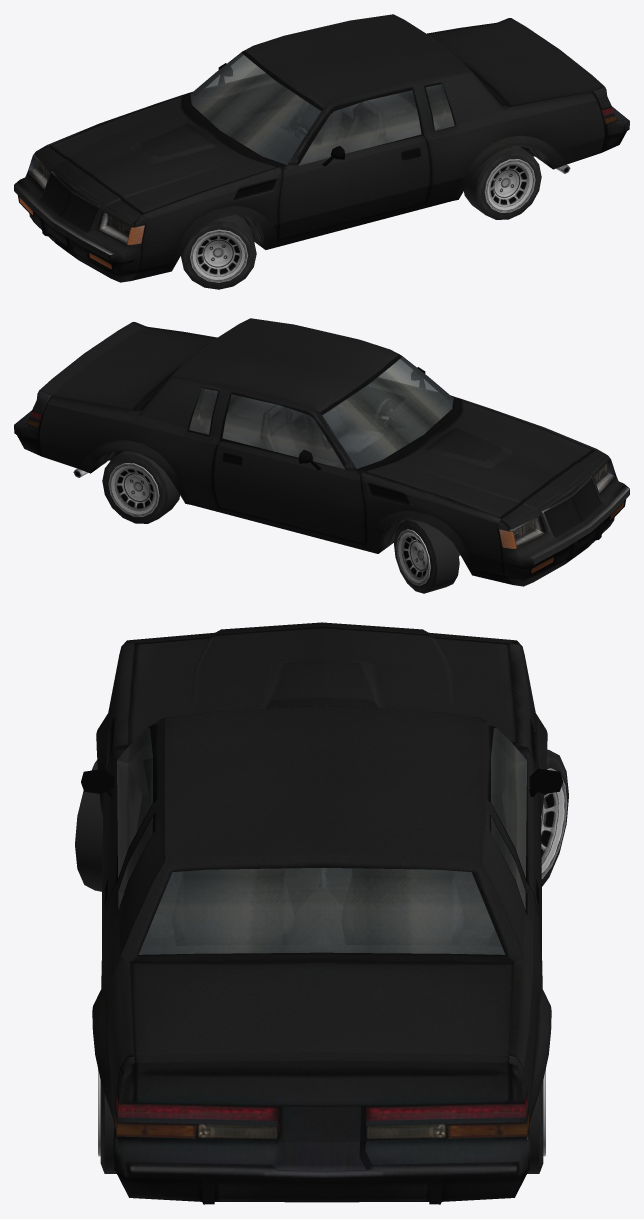
File: slayer_exp_87_-_low_poly_model.glb
3 renders of one model, top to bottom at view 1: azimuth 30°, elevation 25°; view 2: azimuth 150°, elevation 25°; view 3: azimuth 270°, elevation 25°, orthographic. The views are drawn at different scales.
Parts seen in each view (by area): view 1: Body_Body_SlayerEXP87_0, Glass_GT1_Glass_Clean_0, Hood_Body_SlayerEXP87_0, Interior_gt1_interior_0, Trunkdoor_Body_SlayerEXP87_0, Bumper_front_Body_SlayerEXP87_0, Wheel_FL_Rim_PRZero_0, Wheel_RL_Rim_PRZero_0, Wheel_RL_wp_tire_01_dif_0, Wheel_FL_wp_tire_01_dif_0, Bumper_rear_Body_SlayerEXP87_0, Bottom_gt1_Bottom_0; view 2: Body_Body_SlayerEXP87_0, Glass_GT1_Glass_Clean_0, Hood_Body_SlayerEXP87_0, Interior_gt1_interior_0, Trunkdoor_Body_SlayerEXP87_0, Bumper_front_Body_SlayerEXP87_0, Wheel_FR_wp_tire_01_dif_0, Wheel_RR_Rim_PRZero_0, Wheel_RR_wp_tire_01_dif_0, Wheel_FR_Rim_PRZero_0, Bottom_gt1_Bottom_0, Bumper_rear_Body_SlayerEXP87_0; view 3: Body_Body_SlayerEXP87_0, Trunkdoor_Body_SlayerEXP87_0, Glass_GT1_Glass_Clean_0, Interior_gt1_interior_0, Hood_Body_SlayerEXP87_0, Bumper_rear_Body_SlayerEXP87_0, Glass_Stoplights_gt1_headlights_3_0, Glass_Reverse_gt1_headlights_3_0, Wheel_FL_wp_tire_01_dif_0, Wheel_FR_Rim_PRZero_0, Blinkers_Right_gt1_headlights_3_0, Blinkers_Left_gt1_headlights_3_0 (+2 smaller).
Boxes of the visible parts, <box> form: Body_Body_SlayerEXP87_0: <box>20,14,614,280</box>; Glass_GT1_Glass_Clean_0: <box>190,53,454,165</box>; Hood_Body_SlayerEXP87_0: <box>50,96,278,214</box>; Interior_gt1_interior_0: <box>190,53,454,165</box>; Trunkdoor_Body_SlayerEXP87_0: <box>428,18,604,106</box>; Bumper_front_Body_SlayerEXP87_0: <box>14,180,140,282</box>; Wheel_FL_Rim_PRZero_0: <box>190,229,247,282</box>; Wheel_RL_Rim_PRZero_0: <box>484,159,535,212</box>; Wheel_RL_wp_tire_01_dif_0: <box>464,147,541,219</box>; Wheel_FL_wp_tire_01_dif_0: <box>181,215,256,289</box>; Bumper_rear_Body_SlayerEXP87_0: <box>602,106,629,152</box>; Bottom_gt1_Bottom_0: <box>238,146,570,249</box>; Body_Body_SlayerEXP87_0: <box>29,318,623,584</box>; Glass_GT1_Glass_Clean_0: <box>189,357,453,469</box>; Hood_Body_SlayerEXP87_0: <box>365,400,593,518</box>; Interior_gt1_interior_0: <box>189,357,453,469</box>; Trunkdoor_Body_SlayerEXP87_0: <box>39,322,215,410</box>; Bumper_front_Body_SlayerEXP87_0: <box>503,484,629,586</box>; Wheel_FR_wp_tire_01_dif_0: <box>394,519,459,593</box>; Wheel_RR_Rim_PRZero_0: <box>108,463,159,516</box>; Wheel_RR_wp_tire_01_dif_0: <box>102,450,179,523</box>; Wheel_FR_Rim_PRZero_0: <box>396,529,430,585</box>; Bottom_gt1_Bottom_0: <box>73,450,409,553</box>; Bumper_rear_Body_SlayerEXP87_0: <box>14,410,41,456</box>; Body_Body_SlayerEXP87_0: <box>81,622,563,1141</box>; Trunkdoor_Body_SlayerEXP87_0: <box>130,961,513,1106</box>; Glass_GT1_Glass_Clean_0: <box>117,728,526,954</box>; Interior_gt1_interior_0: <box>117,728,526,954</box>; Hood_Body_SlayerEXP87_0: <box>128,627,515,743</box>; Bumper_rear_Body_SlayerEXP87_0: <box>113,1127,530,1204</box>; Glass_Stoplights_gt1_headlights_3_0: <box>115,1093,528,1120</box>; Glass_Reverse_gt1_headlights_3_0: <box>197,1124,446,1140</box>; Wheel_FL_wp_tire_01_dif_0: <box>75,760,102,891</box>; Wheel_FR_Rim_PRZero_0: <box>541,768,567,878</box>; Blinkers_Right_gt1_headlights_3_0: <box>446,1112,529,1138</box>; Blinkers_Left_gt1_headlights_3_0: <box>114,1112,197,1138</box>.
Size of the model in its own units: 5.12 by 1.39 by 2.06.
Materials: 7 (7 with a texture image).
